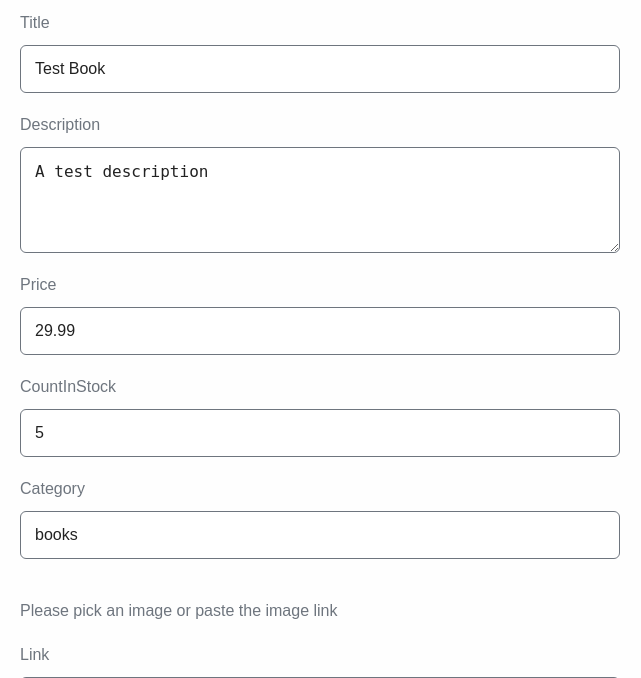
it: ProductForm › shows validation error when price is negative and touched
Replace the text in the number field labelled "Price" with "-5" at (320, 331), box [20,307,620,355]
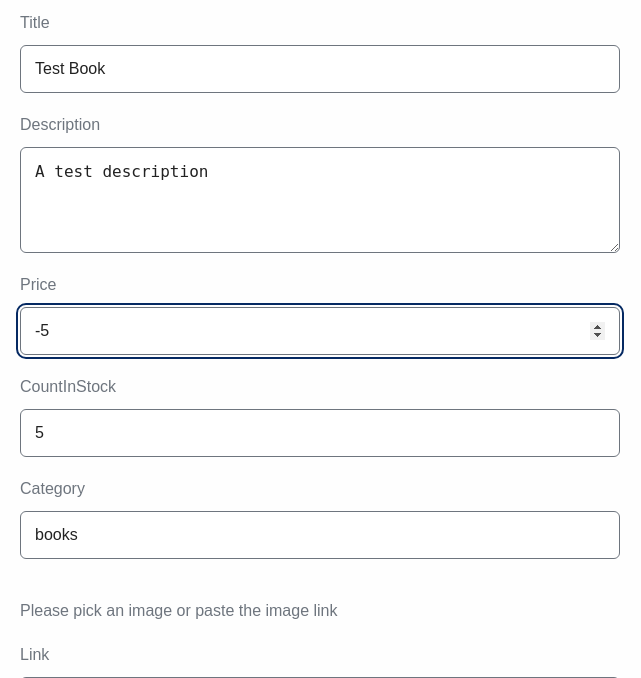
Press Tab
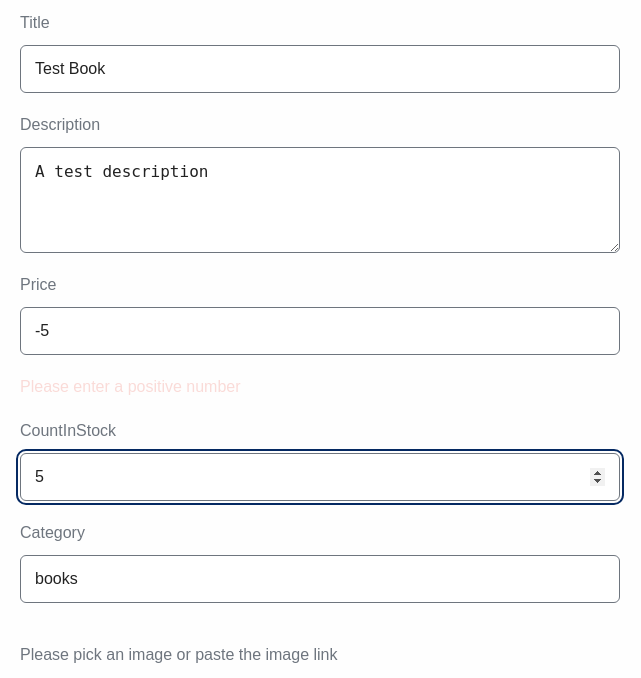
Result: the text "Please enter a positive number" is shown at [20,378,241,395]
